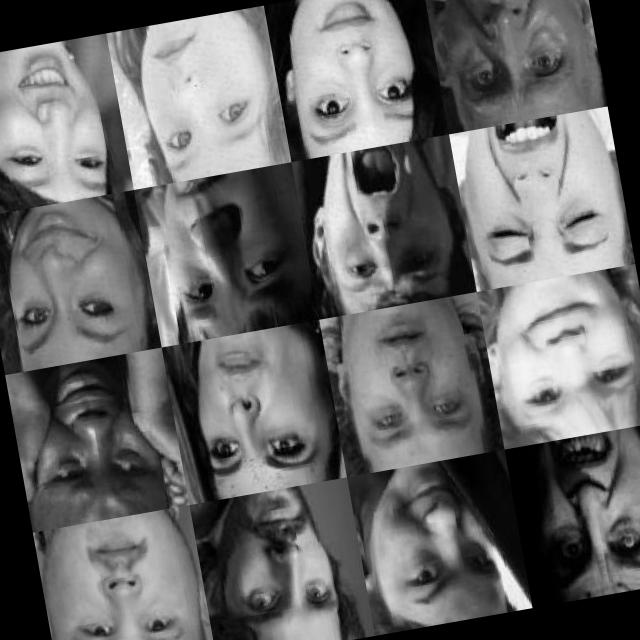angry: (513, 428, 640, 605)
fear: (461, 116, 614, 273), (307, 147, 459, 302), (352, 314, 472, 448)
happy: (490, 273, 640, 436), (374, 463, 509, 620), (0, 199, 129, 354), (0, 49, 107, 206)
neutral: (113, 10, 273, 179), (264, 0, 432, 148), (197, 486, 358, 640), (43, 515, 203, 640), (438, 0, 576, 113)
sad: (162, 329, 326, 492), (13, 364, 170, 518), (143, 171, 294, 323)
